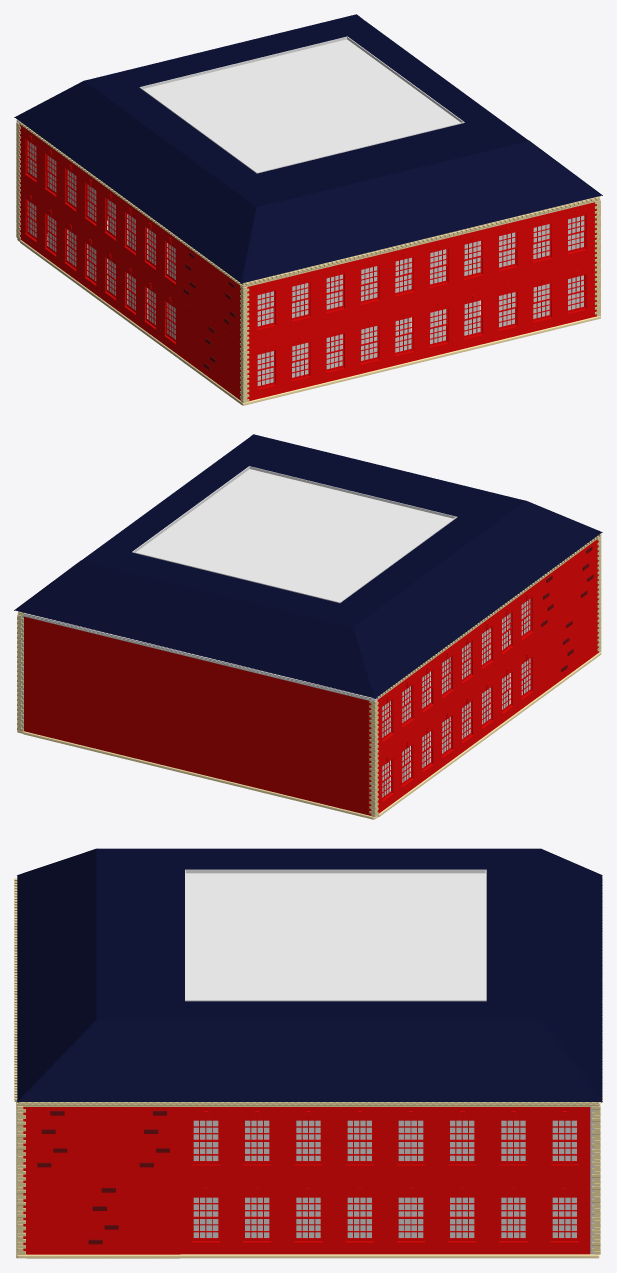
File: PredioDois.fbx
The picture shows the model from 3 angles, top to bottom: view 1: azimuth 30°, elevation 25°; view 2: azimuth 150°, elevation 25°; view 3: azimuth 270°, elevation 25°; orthographic projection. The views are drawn at different scales.
Visible parts, largest first — view 1: telhado, telhado.005, ParedeJanelaRodape.001, ParedeJanelaRodape, ParedeJanelaRodape.006, ParedeJanelaRodape.007, CortinaJanela.001, CortinaJanela, ParedeTetoMeio, CortinaJanela.007, CortinaJanela.006, RodapeJanela (+8 smaller); view 2: telhado, telhado.005, ParedeLisaMeio.002, ParedeLisaRodape.004, ParedeJanelaRodape.006, ParedeJanelaRodape.007, CortinaJanela.006, CortinaJanela.007, ParedeTetoMeio.007, RodapeParedeLisa.004, ParedeLisaRodape.001, ParedeLisaMeio (+8 smaller); view 3: telhado, telhado.005, ParedeJanelaRodape.002, ParedeJanelaRodape.003, CortinaJanela.002, CortinaJanela.003, ParedeLisaRodape.002, ParedeLisaRodape.003, ParedeLisaMeio.001, ParedeTijoloMeio.003, ParedeTijoloMeio.002, ParedeTijoloRodape.001 (+7 smaller).
Boxes of the visible parts, x1,y1,x2,y2 form: telhado: [14, 14, 602, 283]; telhado.005: [139, 36, 464, 173]; ParedeJanelaRodape.001: [249, 202, 593, 343]; ParedeJanelaRodape: [249, 260, 593, 400]; ParedeJanelaRodape.006: [21, 125, 180, 298]; ParedeJanelaRodape.007: [21, 183, 180, 355]; CortinaJanela.001: [257, 215, 584, 326]; CortinaJanela: [257, 275, 583, 385]; ParedeTetoMeio: [249, 197, 594, 286]; CortinaJanela.007: [28, 201, 175, 339]; CortinaJanela.006: [28, 141, 175, 279]; RodapeJanela: [249, 317, 594, 403]; telhado: [14, 434, 602, 698]; telhado.005: [132, 466, 457, 603]; ParedeLisaMeio.002: [24, 616, 368, 758]; ParedeLisaRodape.004: [24, 674, 368, 815]; ParedeJanelaRodape.006: [378, 583, 537, 756]; ParedeJanelaRodape.007: [378, 641, 537, 813]; CortinaJanela.006: [382, 599, 530, 737]; CortinaJanela.007: [382, 659, 529, 797]; ParedeTetoMeio.007: [23, 613, 368, 700]; RodapeParedeLisa.004: [23, 731, 368, 818]; ParedeLisaRodape.001: [537, 626, 557, 697]; ParedeLisaMeio: [557, 554, 576, 625]; telhado: [17, 848, 602, 1102]; telhado.005: [185, 869, 486, 1001]; ParedeJanelaRodape.002: [180, 1107, 590, 1180]; ParedeJanelaRodape.003: [180, 1181, 590, 1254]; CortinaJanela.002: [193, 1120, 576, 1160]; CortinaJanela.003: [193, 1197, 576, 1237]; ParedeLisaRodape.002: [129, 1181, 180, 1254]; ParedeLisaRodape.003: [26, 1181, 77, 1254]; ParedeLisaMeio.001: [78, 1107, 128, 1180]; ParedeTijoloMeio.003: [26, 1107, 77, 1180]; ParedeTijoloMeio.002: [129, 1107, 180, 1180]; ParedeTijoloRodape.001: [78, 1181, 128, 1254].
Size of the model in its own units: 3152 by 1379 by 3447.
